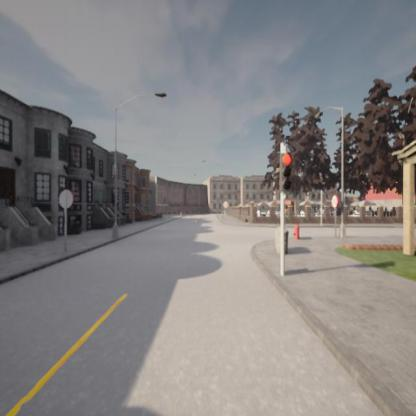traffic_light_red: (280, 152, 292, 192)
